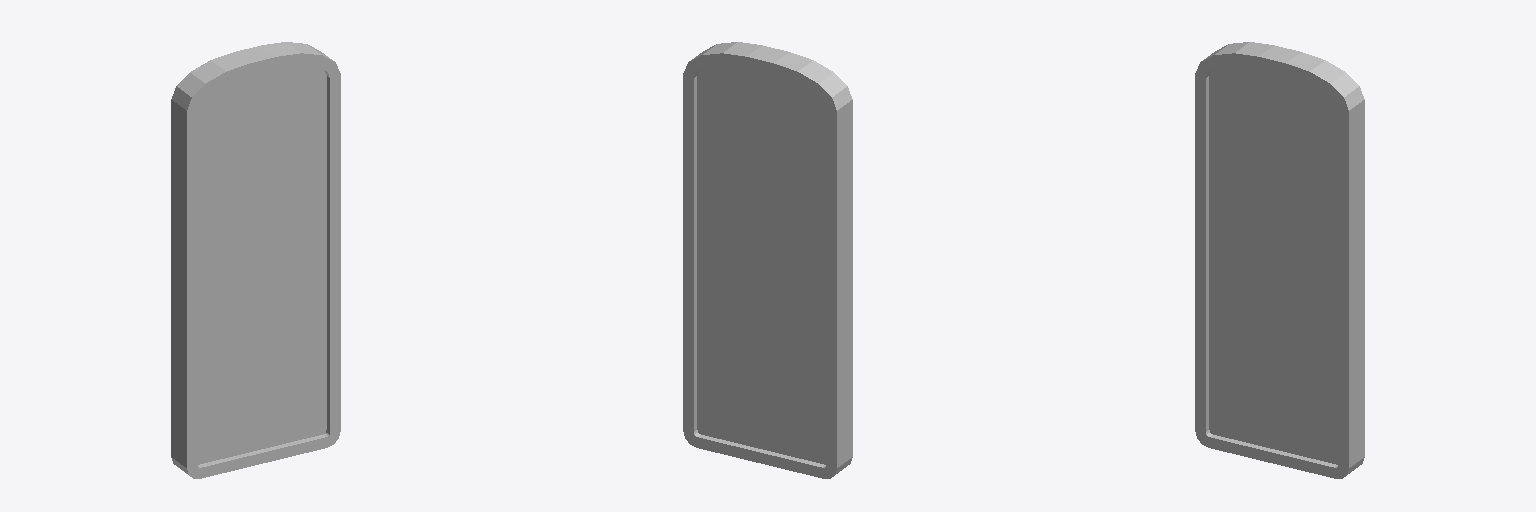
File: Grave.obj
3 views of the same model, side by side, from view 1: azimuth 30°, elevation 25°; view 2: azimuth 150°, elevation 25°; view 3: azimuth 330°, elevation 25° (orthographic).
Visible parts, largest first — view 1: Middle; view 2: Middle; view 3: Middle.
Boxes of the visible parts, x1,y1,x2,y2 form: Middle: [171, 42, 340, 478]; Middle: [683, 42, 852, 478]; Middle: [1195, 42, 1364, 478].
Bounding box in the file's own units: 7.37 × 18.51 × 1.3.